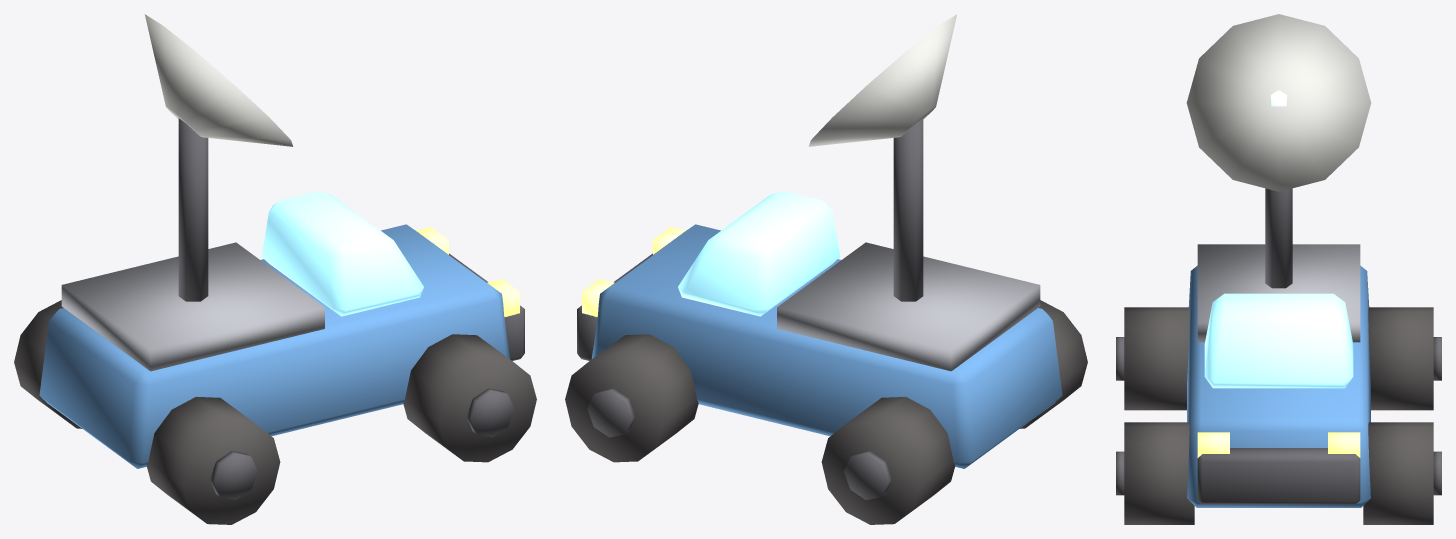
The model's file is explorer.glb.
The picture shows the model from 3 angles, left to right: view 1: azimuth 30°, elevation 25°; view 2: azimuth 150°, elevation 25°; view 3: azimuth 270°, elevation 25°; orthographic projection. The views are drawn at different scales.
Parts seen in each view (by area): view 1: body; view 2: body; view 3: body.
Boxes of the visible parts, x1,y1,x2,y2 form: body: (14,14,536,524); body: (565,14,1087,524); body: (1116,14,1441,524).
Bounding box in the file's own units: 0.5057 × 0.5259 × 0.39.
